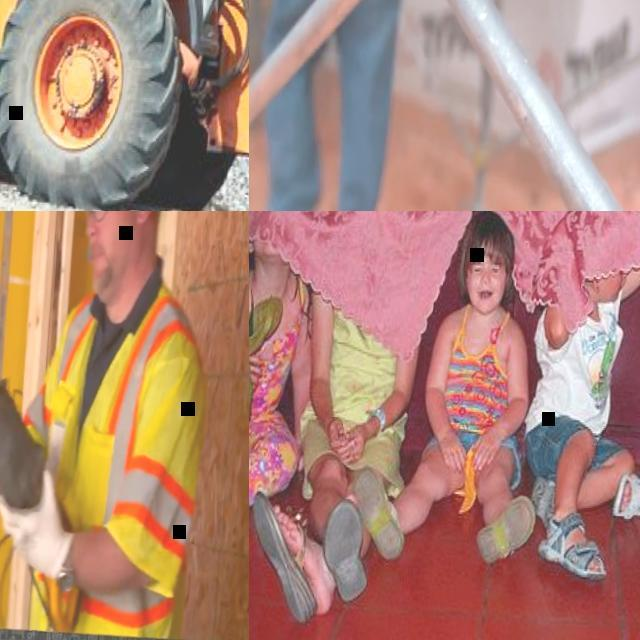Robbery: (2, 211, 224, 640), (410, 205, 534, 566), (301, 259, 415, 596), (547, 241, 640, 584), (245, 247, 319, 550)
